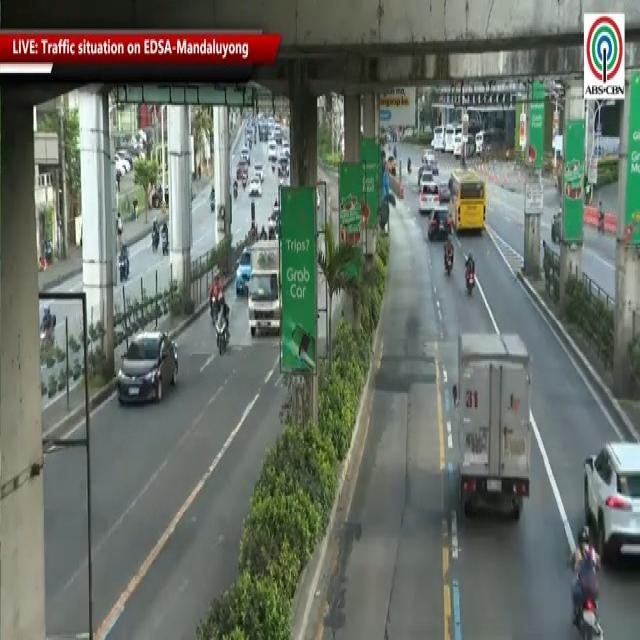car: (578, 441, 640, 567), (112, 326, 182, 412), (415, 178, 445, 222)
motorbike: (562, 498, 602, 640), (212, 298, 234, 372), (204, 268, 224, 329), (114, 235, 136, 288), (39, 302, 58, 359), (443, 224, 458, 294), (464, 240, 478, 304)
truck: (441, 320, 542, 538), (243, 233, 283, 351)
